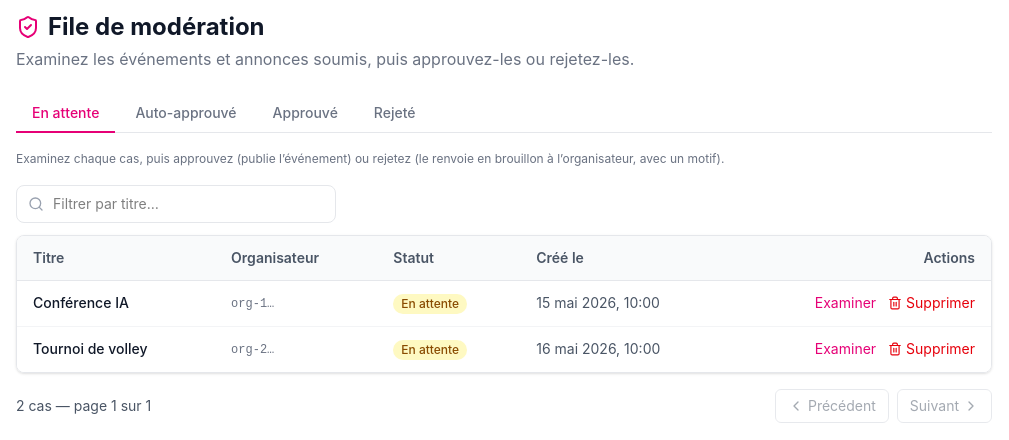
it: AdminModerationPage › shows a no-match message when the filter matches nothing
This screenshot has width=1009, height=440.
Expected: the link "Conférence IA" is shown, [33,294,129,311]
Type "zzz-aucun" into the field with placeholder "Filtrer par titre…". click: (176, 204)
box: [16,184,336,222]
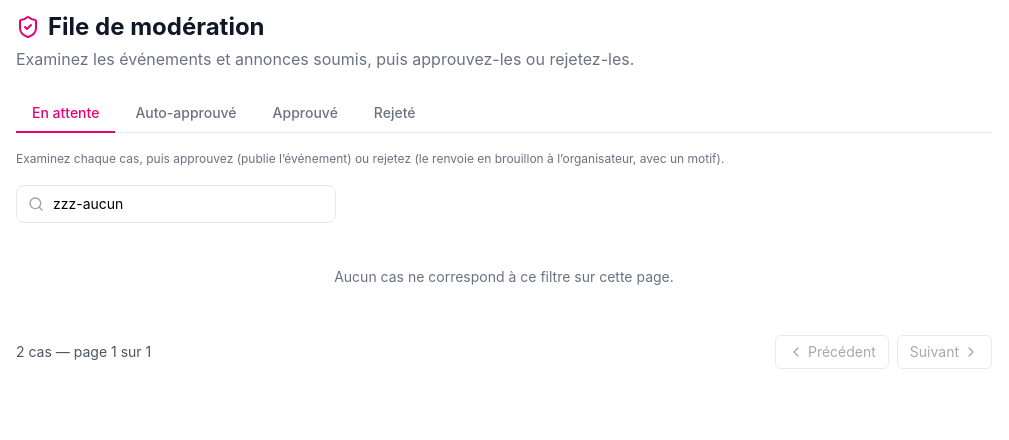
Now the text "Aucun cas ne correspond à ce filtre sur cette page." is shown, box [334,268,674,284]
